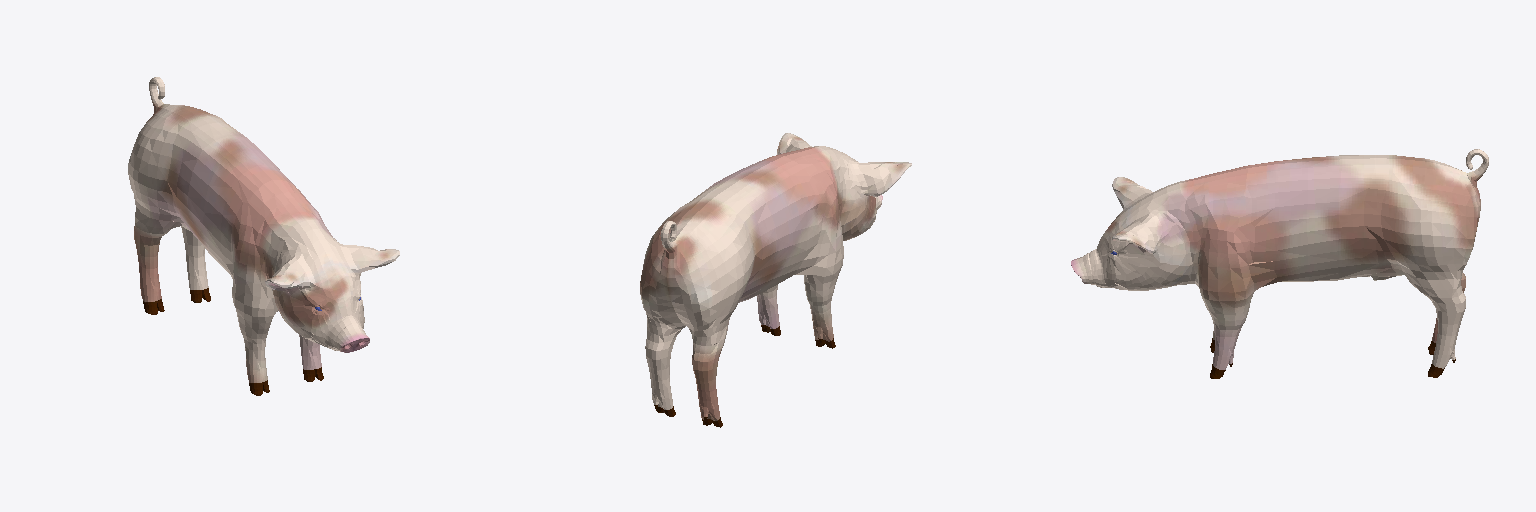
The picture shows the model from 3 angles: view 1: azimuth 30°, elevation 25°; view 2: azimuth 150°, elevation 25°; view 3: azimuth 270°, elevation 25°; orthographic projection.
Visible parts, largest first — view 1: pig; view 2: pig; view 3: pig.
Boxes of the visible parts, box(x1,y1,x2,y2) form: pig: box(128, 77, 399, 395); pig: box(640, 133, 911, 427); pig: box(1071, 149, 1488, 378).
Bounding box in the file's own units: 2.97 × 4.74 × 8.45.
Materials: 3 (1 with a texture image).